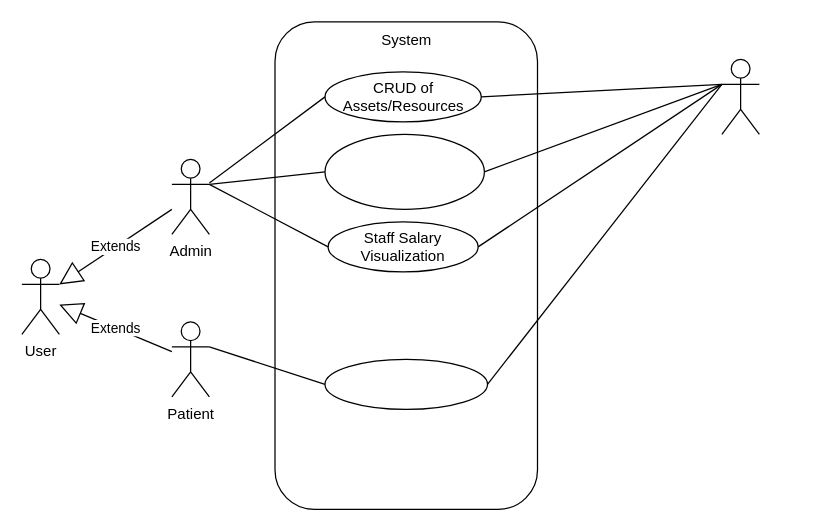
Image size: 821x531. Some labels were removed from this diagram. The box of each missing label's shape, as (x1, y1, x2, y2) in pixels:
Consultation Review: (324, 358, 488, 409)
Database Service: (721, 58, 759, 134)
View of Audits(Statistics + Logs): (324, 133, 484, 209)
